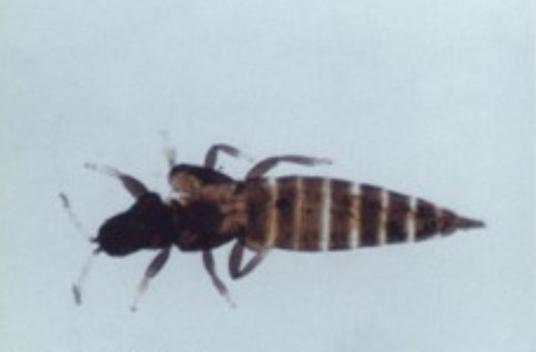Thripidae: (57, 138, 488, 315)
